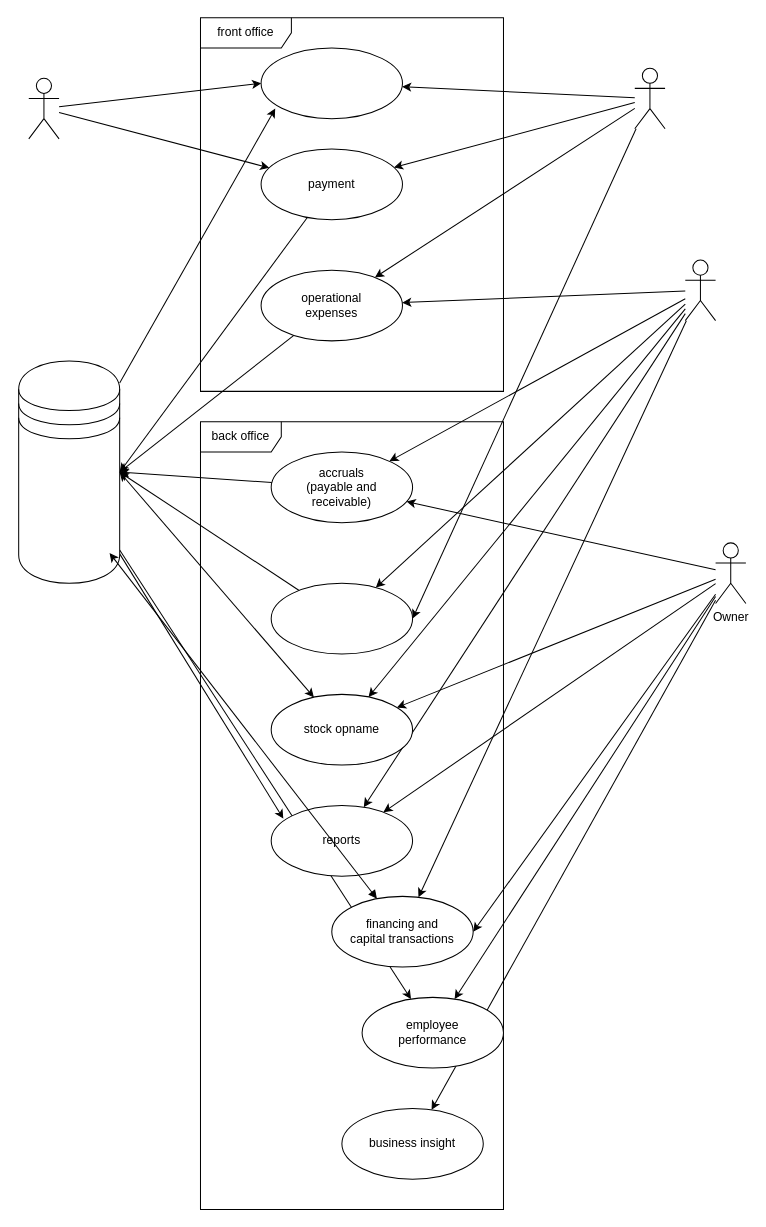
This 766x1227 diagram has some shape labels left out. Each missing label, with the centre of its shape:
Customer: (x=43, y=108)
database: (x=69, y=471)
Manager: (x=700, y=290)
Operator: (x=649, y=98)
order: (x=331, y=83)
restock: (x=341, y=618)
